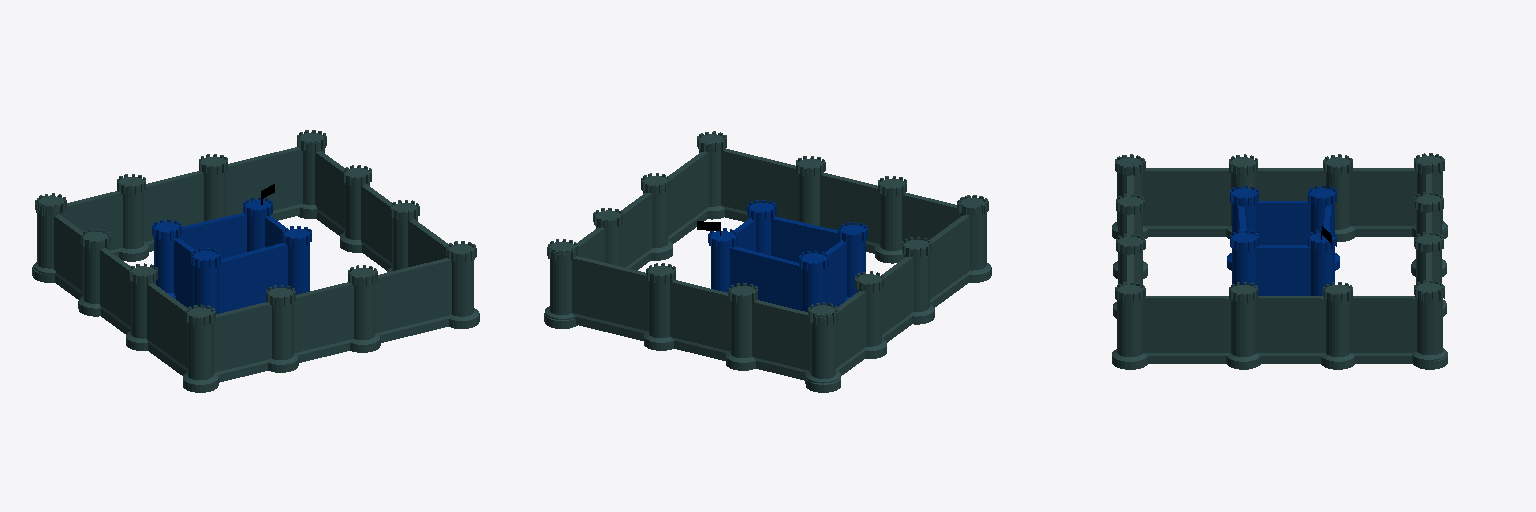
File: castleflag_Multi.obj
3 views of the same model, side by side, from view 1: azimuth 30°, elevation 25°; view 2: azimuth 150°, elevation 25°; view 3: azimuth 270°, elevation 25° (orthographic).
Parts seen in each view (by area): view 1: Cylinder007, Cylinder006, Cylinder009, Cylinder003, Cylinder008; view 2: Cylinder006, Cylinder007, Cylinder009, Cylinder003, Cylinder008; view 3: Cylinder008, Cylinder009, Cylinder003, Cylinder006, Cylinder007.
Boxes of the visible parts, x1,y1,x2,y2 form: Cylinder007: [184, 241, 476, 385]; Cylinder006: [34, 130, 326, 280]; Cylinder009: [32, 195, 217, 392]; Cylinder003: [152, 197, 311, 313]; Cylinder008: [297, 132, 479, 328]; Cylinder006: [545, 239, 840, 383]; Cylinder007: [697, 132, 986, 282]; Cylinder009: [806, 195, 991, 392]; Cylinder003: [708, 200, 867, 311]; Cylinder008: [544, 131, 726, 328]; Cylinder008: [1112, 282, 1447, 369]; Cylinder009: [1112, 154, 1447, 241]; Cylinder003: [1227, 185, 1339, 295]; Cylinder006: [1411, 153, 1446, 367]; Cylinder007: [1113, 155, 1147, 369].
Bounding box in the file's own units: 322 × 90.23 × 321.